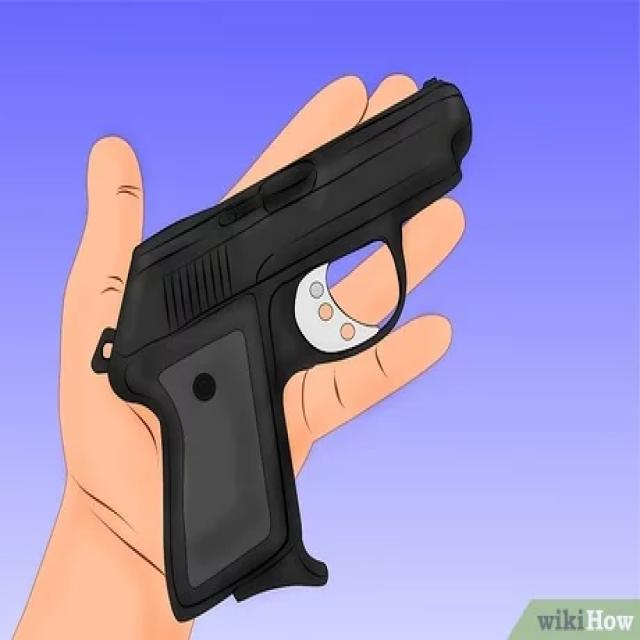HandGun: (89, 82, 475, 622)
